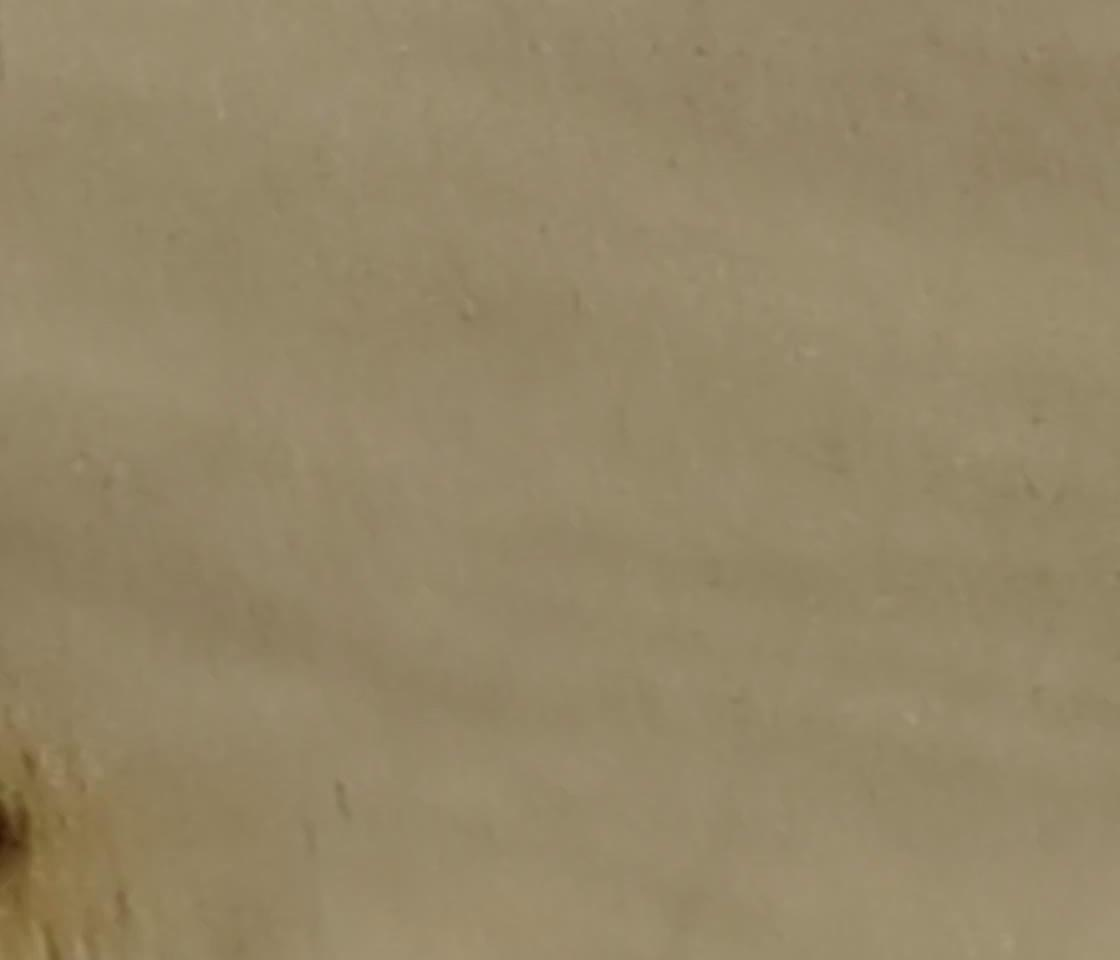rust: (1, 785, 37, 911)
